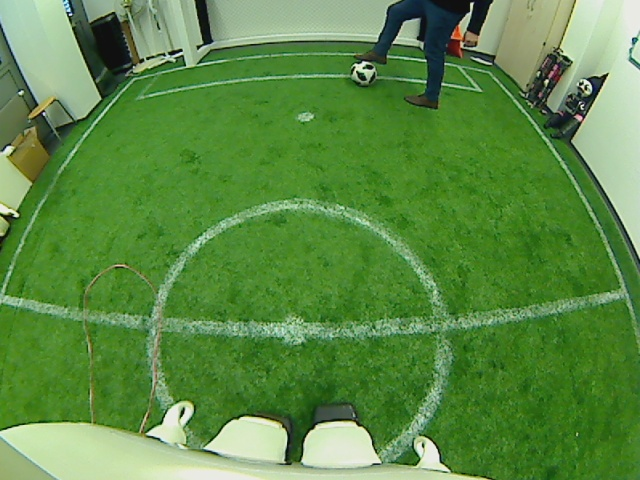ball: (350, 61, 377, 86)
